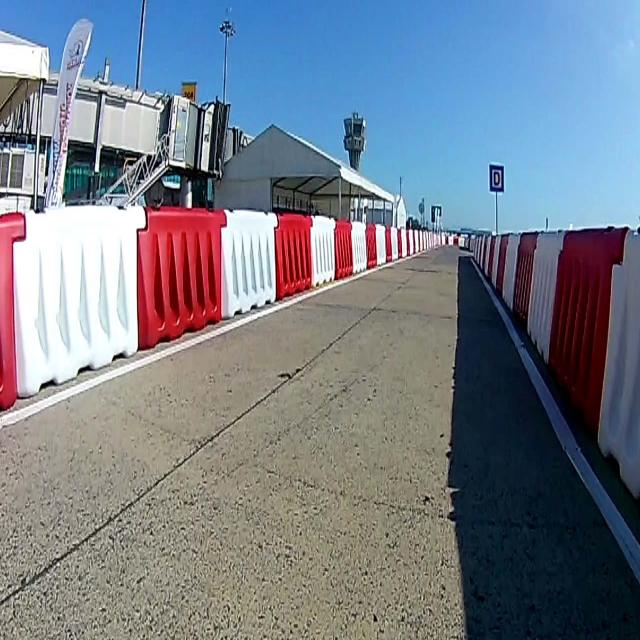durak: (490, 162, 504, 193)
